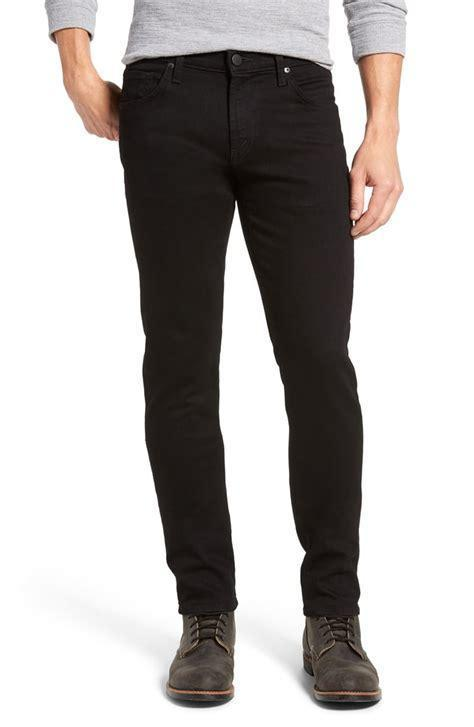pants: (121, 54, 364, 616)
